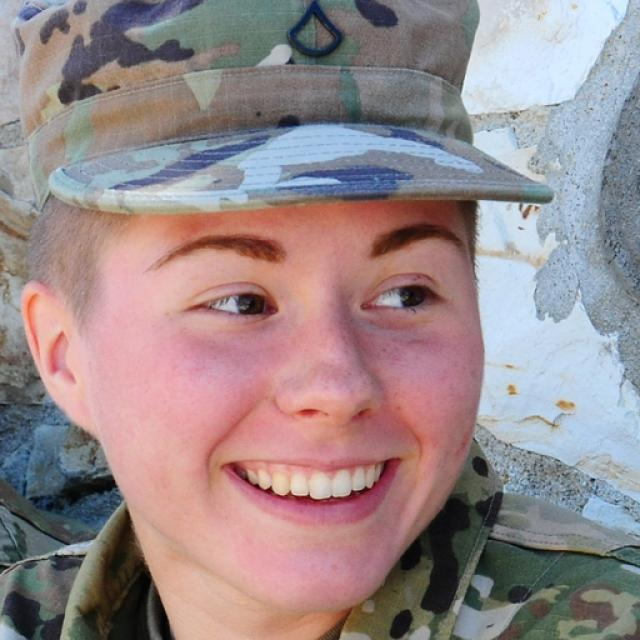happy: (95, 182, 486, 618)
